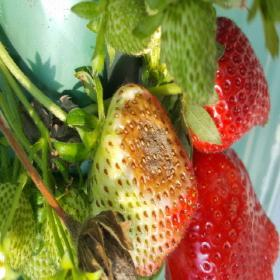Gray Mold: (115, 90, 191, 198), (64, 209, 140, 279)
